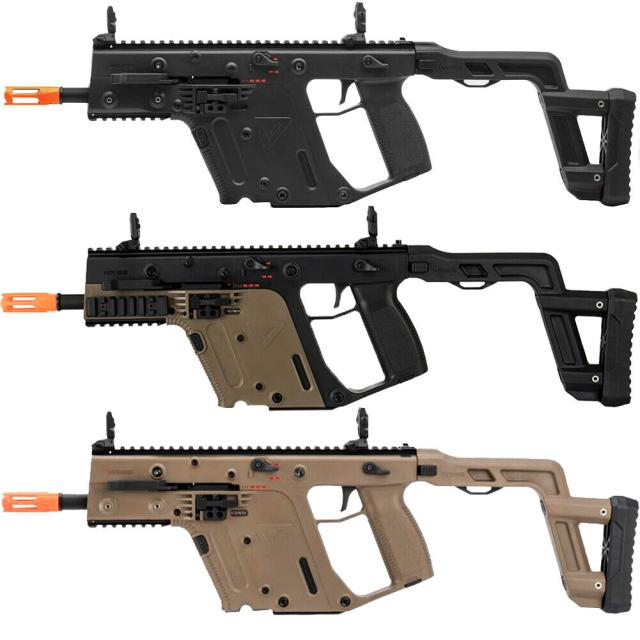SMG: (0, 8, 638, 211), (0, 218, 640, 412), (0, 442, 640, 617)
